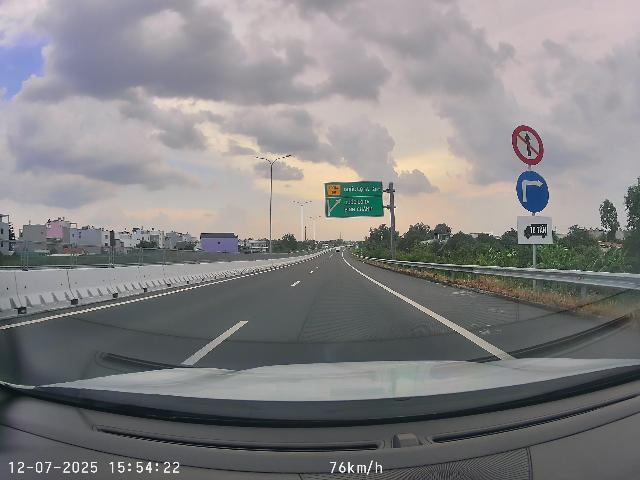136-cam-di-thang: (512, 125, 544, 165)
301d-cac-xe-chi-duoc-re-phai-2: (516, 170, 550, 213)
